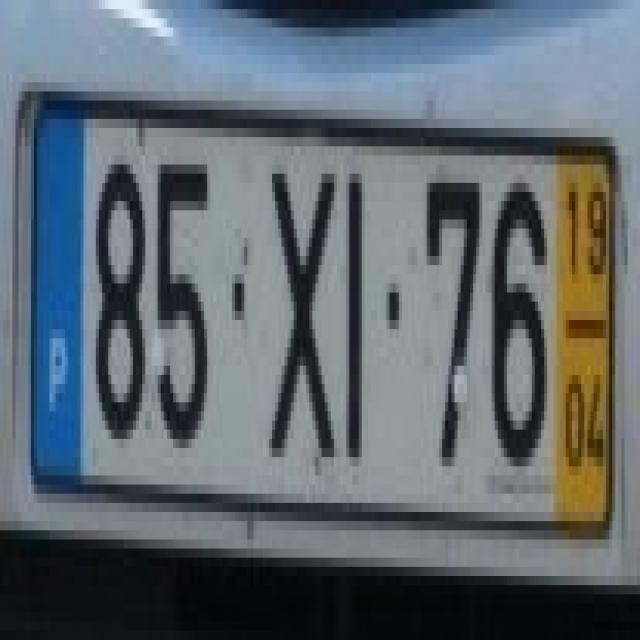1: (324, 146, 380, 457)
5: (148, 146, 210, 439)
6: (479, 156, 554, 457)
7: (408, 156, 486, 467)
8: (90, 137, 146, 439)
X: (254, 137, 340, 457)
